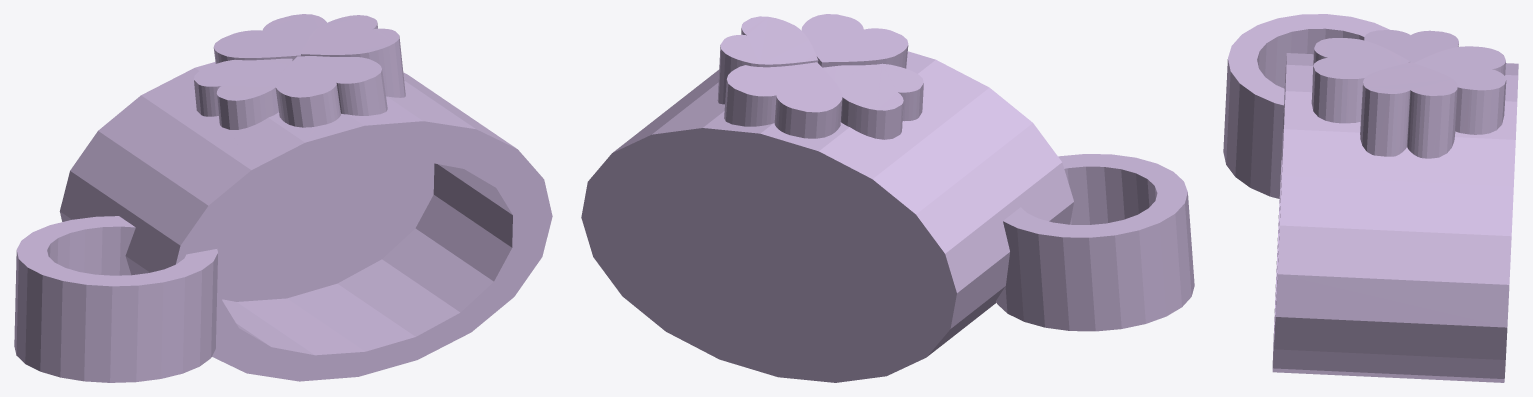
File: tinker.obj
3 renders of one model, left to right at view 1: azimuth 30°, elevation 25°; view 2: azimuth 150°, elevation 25°; view 3: azimuth 270°, elevation 25°, orthographic. The views are drawn at different scales.
Visible parts, largest first — view 1: obj_0; view 2: obj_0; view 3: obj_0.
Boxes of the visible parts, x1=… form: obj_0: x1=14, y1=14, x2=552, y2=382; obj_0: x1=581, y1=14, x2=1194, y2=382; obj_0: x1=1223, y1=14, x2=1518, y2=382.
Bounding box in the file's own units: 49.5 × 27.06 × 24.43.
